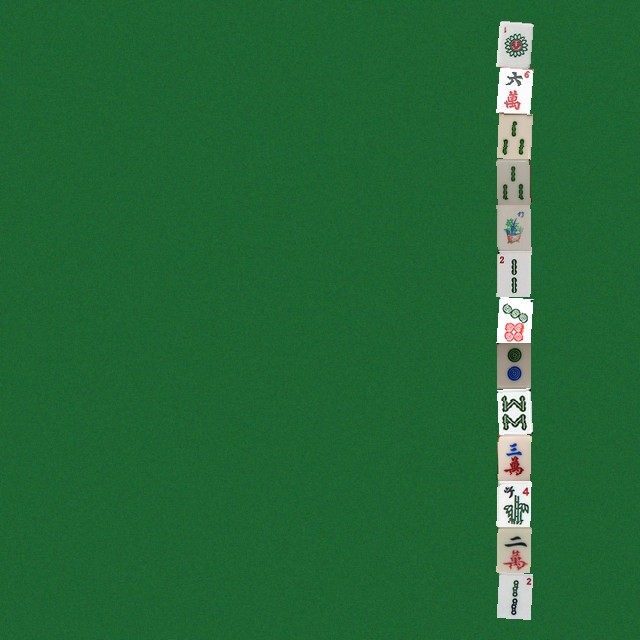tile: (496, 20, 530, 66), (496, 66, 530, 112), (496, 112, 530, 158), (496, 158, 530, 204), (496, 204, 530, 250), (496, 250, 530, 296), (496, 296, 530, 342), (496, 342, 530, 388), (496, 388, 530, 434), (496, 434, 530, 480), (496, 480, 530, 526), (496, 526, 530, 572), (496, 572, 530, 618)
